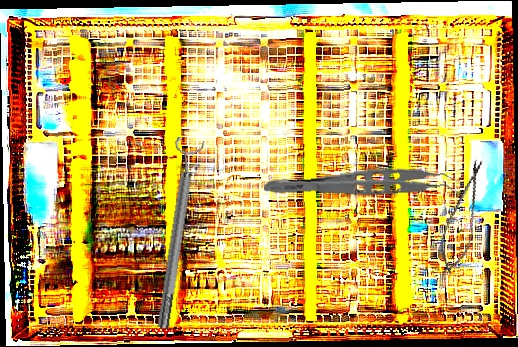Fixation Ring: (146, 136, 207, 331)
Micro Scissor: (433, 154, 492, 280)
Tissue Forceps: (263, 163, 460, 211)
